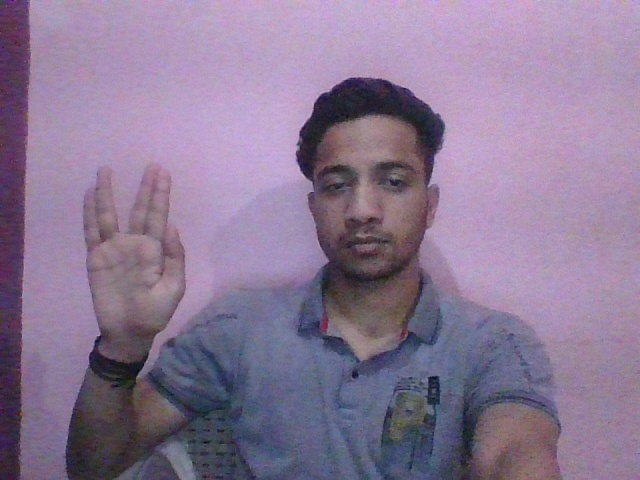livelong: (81, 159, 187, 349)
